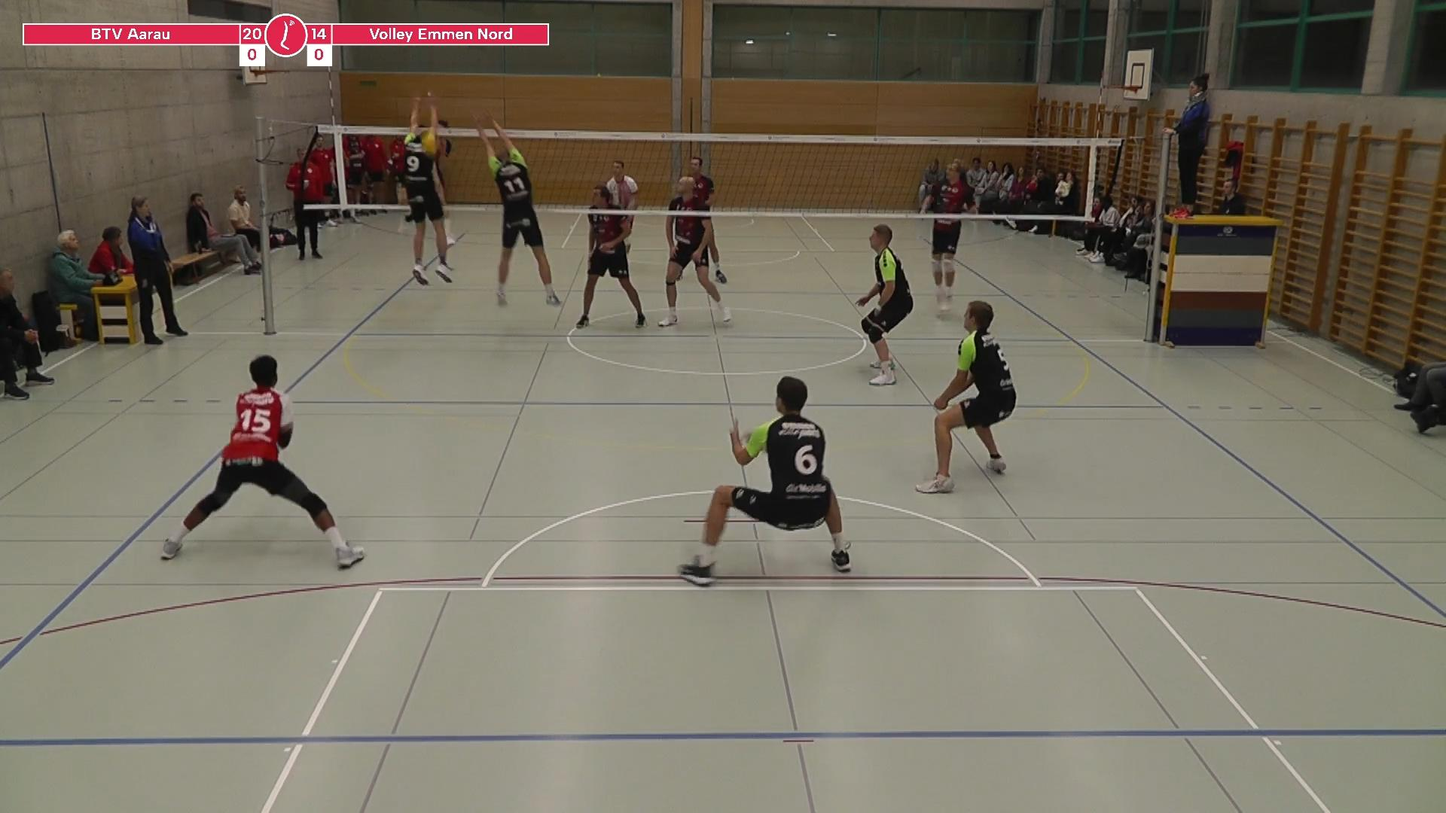attacco: (417, 98, 457, 251)
muro: (463, 108, 563, 306), (391, 95, 471, 288)
